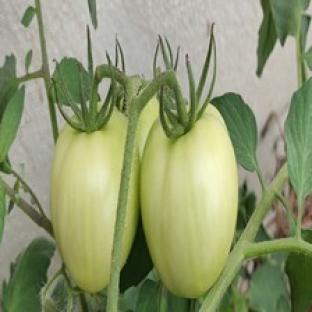Tomato: (141, 105, 238, 298), (51, 111, 128, 292), (137, 97, 158, 157)
